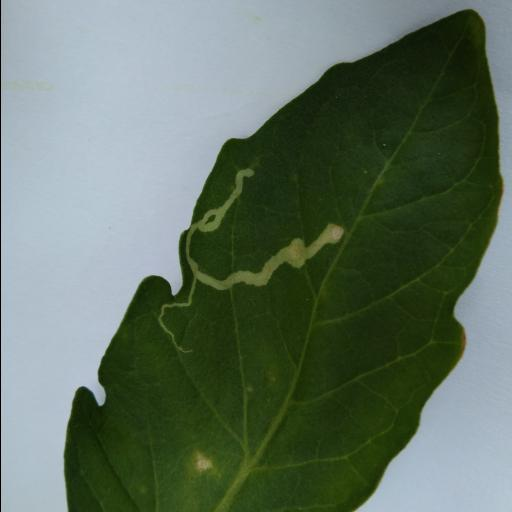disease_tomato: (62, 10, 506, 512)
